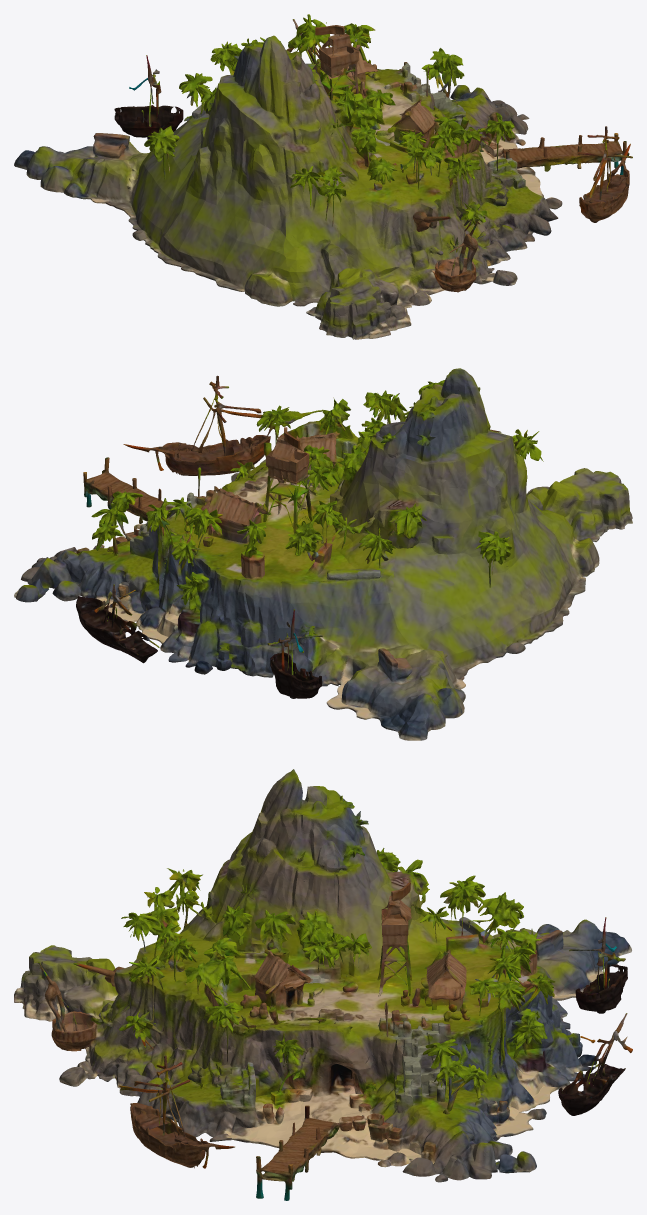
The model's file is island_02.glb.
3 views of the same model, one above another, from view 1: azimuth 30°, elevation 25°; view 2: azimuth 150°, elevation 25°; view 3: azimuth 270°, elevation 25° (orthographic). The views are drawn at different scales.
Visible parts, largest first — view 1: tripo_node_16e6ea43-aa6c-4894-9753-d7b99f3c94a4; view 2: tripo_node_16e6ea43-aa6c-4894-9753-d7b99f3c94a4; view 3: tripo_node_16e6ea43-aa6c-4894-9753-d7b99f3c94a4.
Boxes of the visible parts, x1=… form: tripo_node_16e6ea43-aa6c-4894-9753-d7b99f3c94a4: x1=14, y1=14, x2=632, y2=339; tripo_node_16e6ea43-aa6c-4894-9753-d7b99f3c94a4: x1=14, y1=368, x2=632, y2=740; tripo_node_16e6ea43-aa6c-4894-9753-d7b99f3c94a4: x1=14, y1=769, x2=632, y2=1200.
Size of the model in its own units: 0.9725 by 0.4289 by 1.
1 material, 1 textured.
